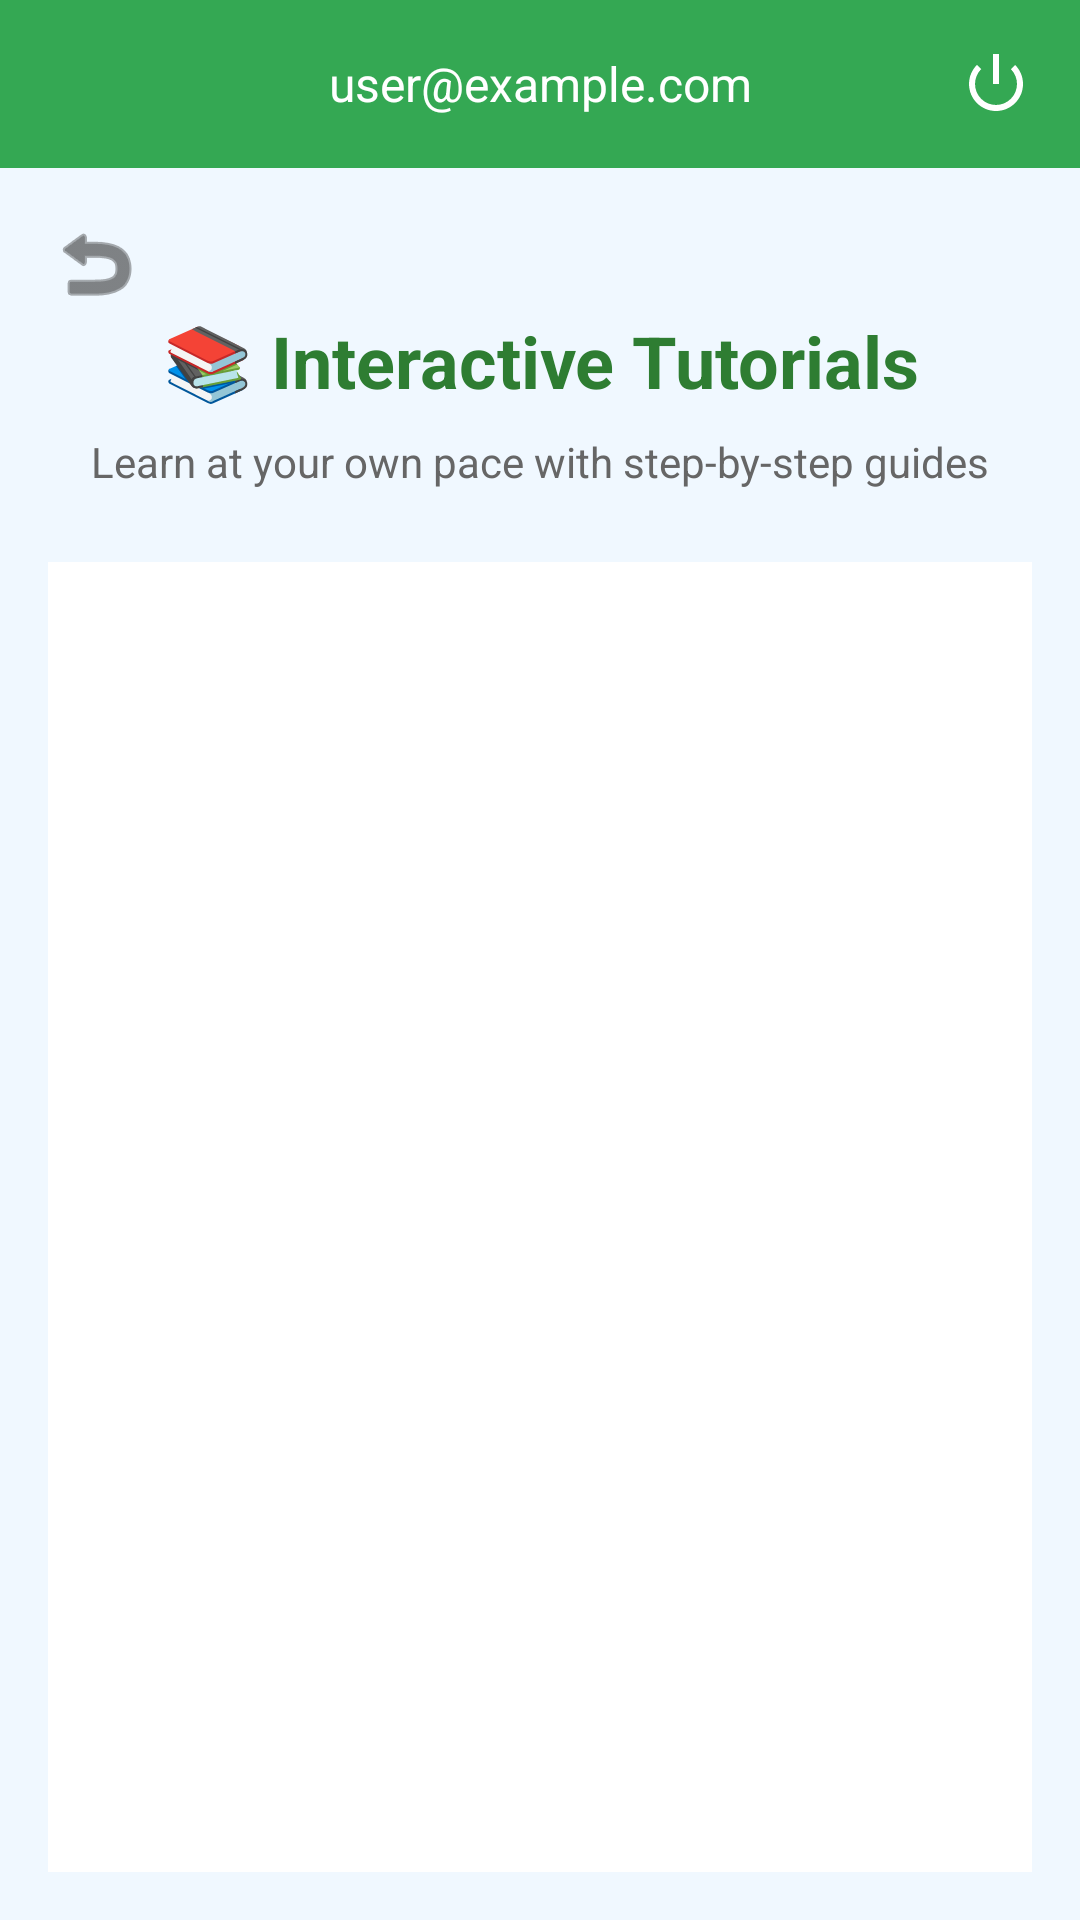

Point at icon controls on the screen. Image size 1080 × 1920, points as (x=x, y=y).
Back: (x=97, y=264)
